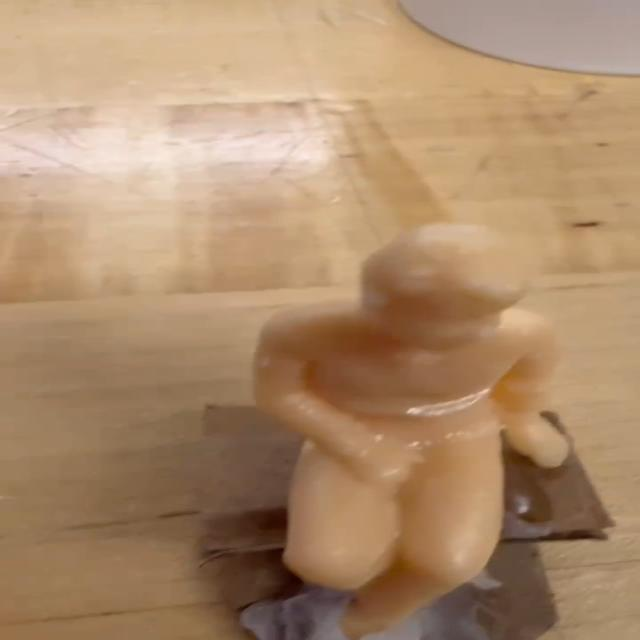Unauthorized: (163, 218, 640, 640)
